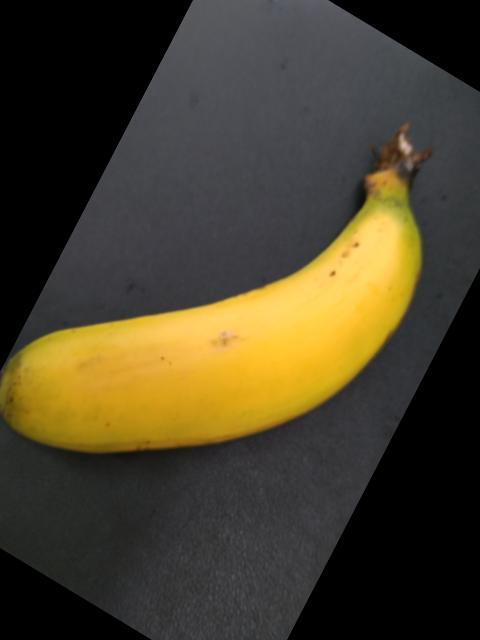freshripe: (0, 187, 430, 505)
